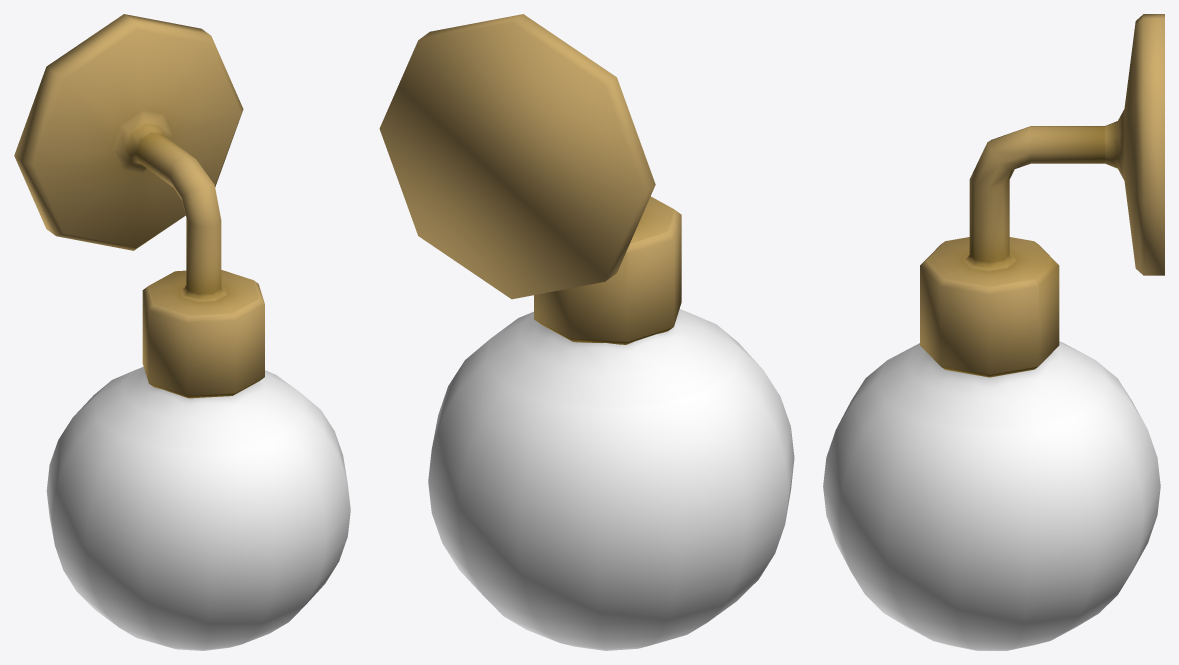
Rendered from wall_lamp.fbx.
3 renders of one model, left to right at view 1: azimuth 30°, elevation 25°; view 2: azimuth 150°, elevation 25°; view 3: azimuth 270°, elevation 25°, orthographic. The views are drawn at different scales.
Parts seen in each view (by area): view 1: Sphere, Circle; view 2: Sphere, Circle; view 3: Sphere, Circle.
Boxes of the visible parts, box(x1,y1,x2,y2) form: Sphere: box(46, 367, 350, 650); Circle: box(14, 14, 264, 398); Sphere: box(428, 309, 794, 650); Circle: box(379, 14, 681, 344); Sphere: box(823, 341, 1160, 650); Circle: box(920, 14, 1164, 377).
Size of the model in its own units: 292 by 603 by 303.
